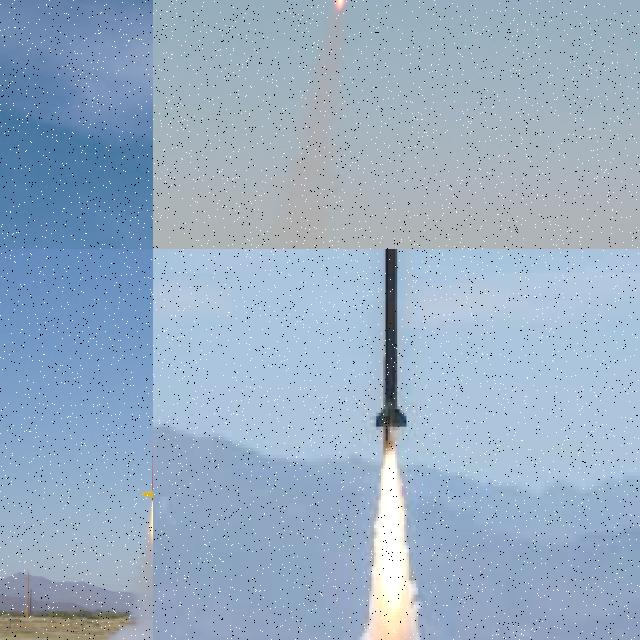Rocket: (372, 249, 408, 440), (142, 395, 153, 501)
